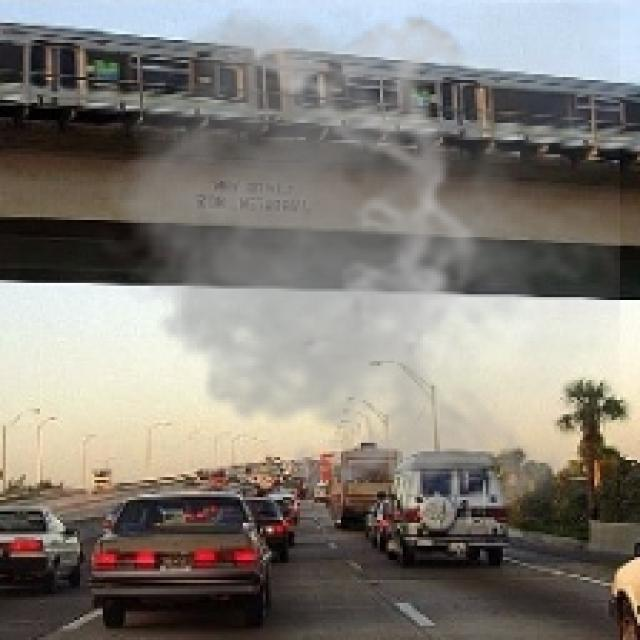Smoke: (85, 3, 620, 526)
